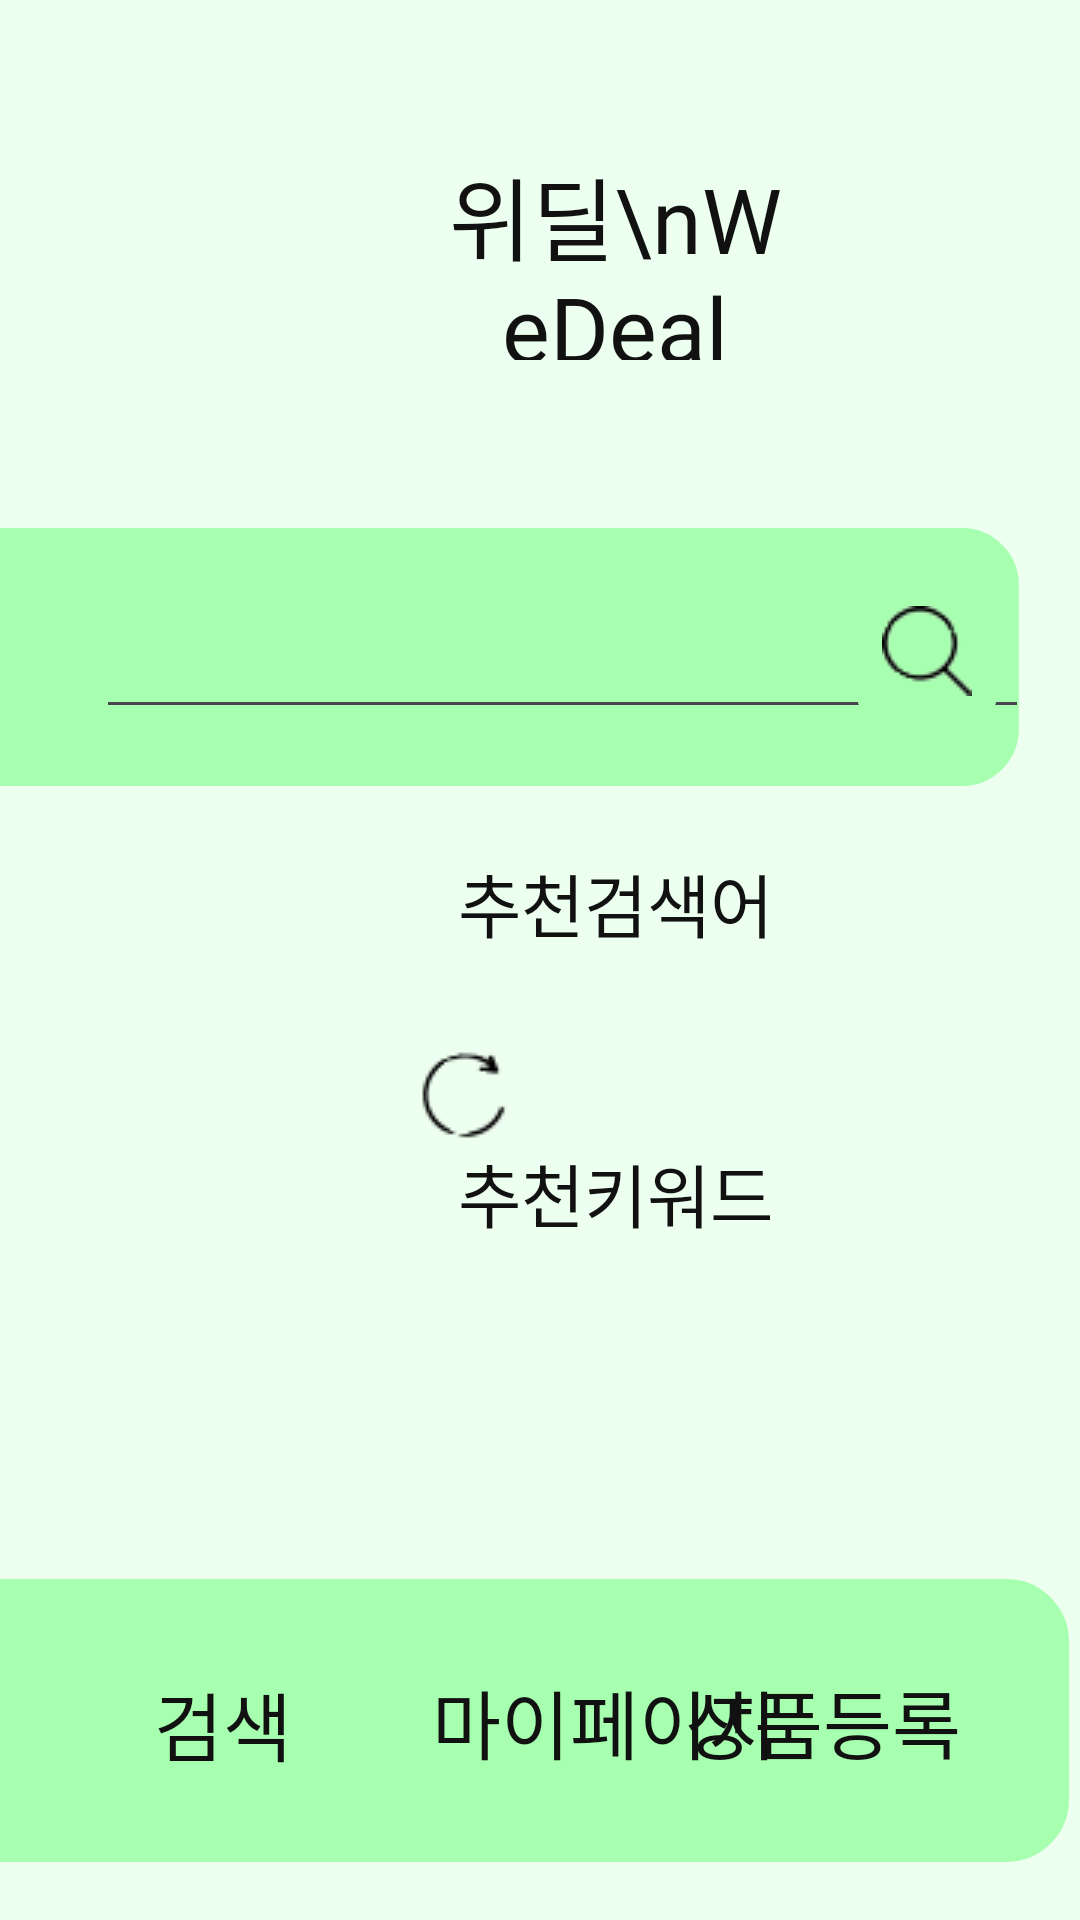

Locate icon controls on the screen. Image size 1080×1920, boxes as [x1,y1,x2,y2].
refreshicon: [422,1052,505,1138]
searchicon: [882,606,972,696]
